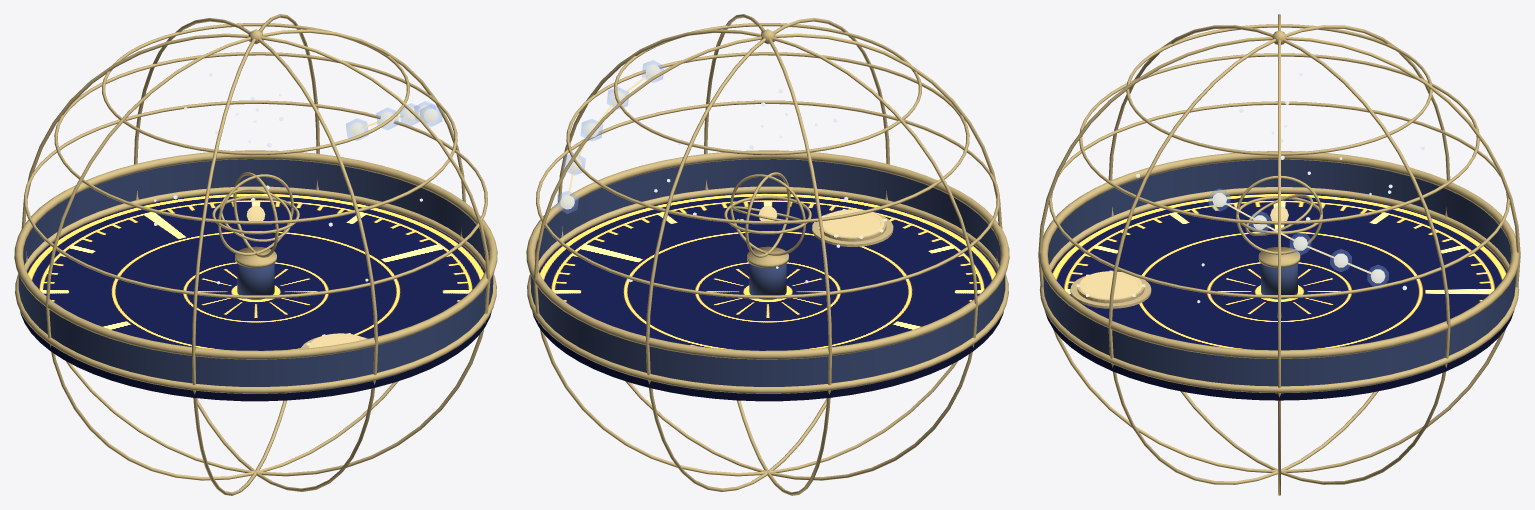
File: north.glb
3 views of the same model, side by side, from view 1: azimuth 30°, elevation 25°; view 2: azimuth 150°, elevation 25°; view 3: azimuth 270°, elevation 25° (orthographic).
Visible parts, largest first — view 1: Obs_Floor, Obs_Wall, Obs_RimTop, Obs_RimBot, Obs_Rib_3, Obs_Rib_0, Obs_Lat_3.0, Obs_Rib_2, Obs_Lat_5.0, Obs_Rib_1, Obs_Lat_6.6, Obs_Ped (+4 smaller); view 2: Obs_Floor, Obs_Wall, Obs_RimTop, Obs_RimBot, Obs_Rib_1, Obs_Rib_0, Obs_Lat_3.0, Obs_Rib_2, Obs_Lat_5.0, Obs_Rib_3, Obs_Lat_6.6, Obs_Ped (+6 smaller); view 3: Obs_Floor, Obs_Wall, Obs_RimTop, Obs_RimBot, Obs_Rib_2, Obs_Rib_3, Obs_Rib_1, Obs_Lat_3.0, Obs_Lat_5.0, Obs_Lat_6.6, Obs_Rib_0, Obs_Ped (+5 smaller).
Boxes of the visible parts, box(x1,y1,x2,y2) form: Obs_Floor: box(20, 193, 491, 401); Obs_Wall: box(18, 159, 493, 386); Obs_RimTop: box(14, 150, 497, 359); Obs_RimBot: box(15, 186, 496, 393); Obs_Rib_3: box(21, 33, 490, 476); Obs_Rib_0: box(46, 29, 465, 480); Obs_Lat_3.0: box(24, 100, 487, 298); Obs_Rib_2: box(134, 18, 378, 491); Obs_Lat_5.0: box(54, 52, 457, 224); Obs_Rib_1: box(192, 14, 319, 495); Obs_Lat_6.6: box(102, 23, 409, 155); Obs_Ped: box(237, 263, 274, 299); Obs_Floor: box(532, 193, 1003, 401); Obs_Wall: box(530, 159, 1005, 386); Obs_RimTop: box(526, 150, 1009, 359); Obs_RimBot: box(527, 186, 1008, 393); Obs_Rib_1: box(533, 33, 1002, 476); Obs_Rib_0: box(558, 29, 977, 480); Obs_Lat_3.0: box(536, 100, 999, 298); Obs_Rib_2: box(645, 18, 889, 491); Obs_Lat_5.0: box(566, 52, 969, 224); Obs_Rib_3: box(704, 14, 831, 495); Obs_Lat_6.6: box(614, 23, 921, 155); Obs_Ped: box(749, 263, 786, 299); Obs_Floor: box(1045, 193, 1513, 400); Obs_Wall: box(1043, 159, 1515, 386); Obs_RimTop: box(1039, 151, 1519, 358); Obs_RimBot: box(1039, 187, 1519, 393); Obs_Rib_2: box(1038, 37, 1520, 472); Obs_Rib_3: box(1108, 25, 1450, 484); Obs_Rib_1: box(1108, 25, 1450, 484); Obs_Lat_3.0: box(1048, 101, 1510, 298); Obs_Lat_5.0: box(1079, 53, 1479, 224); Obs_Lat_6.6: box(1126, 24, 1432, 155); Obs_Rib_0: box(1278, 14, 1280, 495); Obs_Ped: box(1261, 263, 1297, 299).
Bounding box in the file's own units: 14.31 × 14.5 × 14.31.
Materials: 10 (1 with a texture image).
